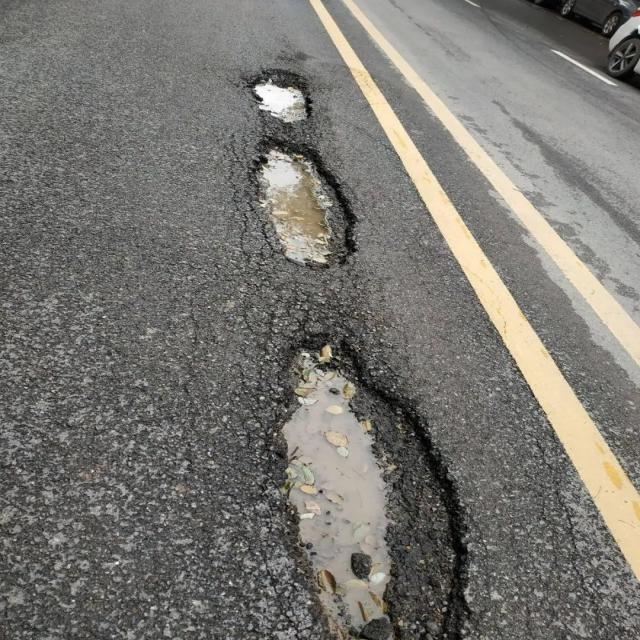pothole: (249, 335, 471, 639), (236, 139, 357, 277), (247, 72, 313, 123)
